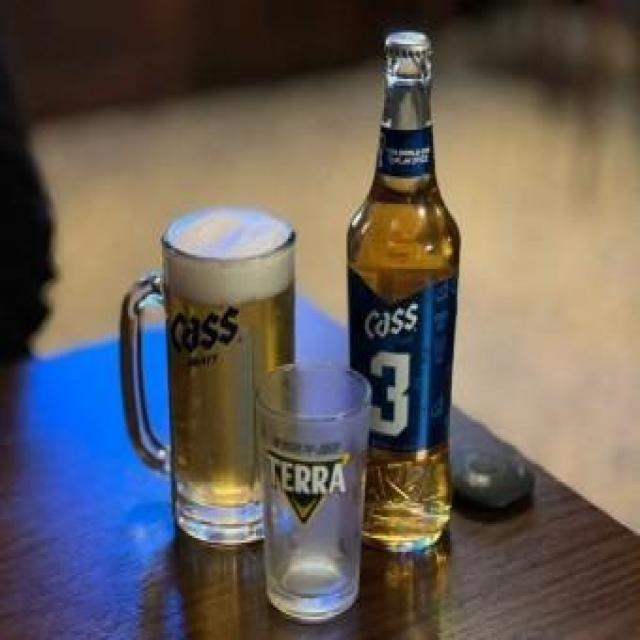beer-bottle: (344, 29, 456, 548)
